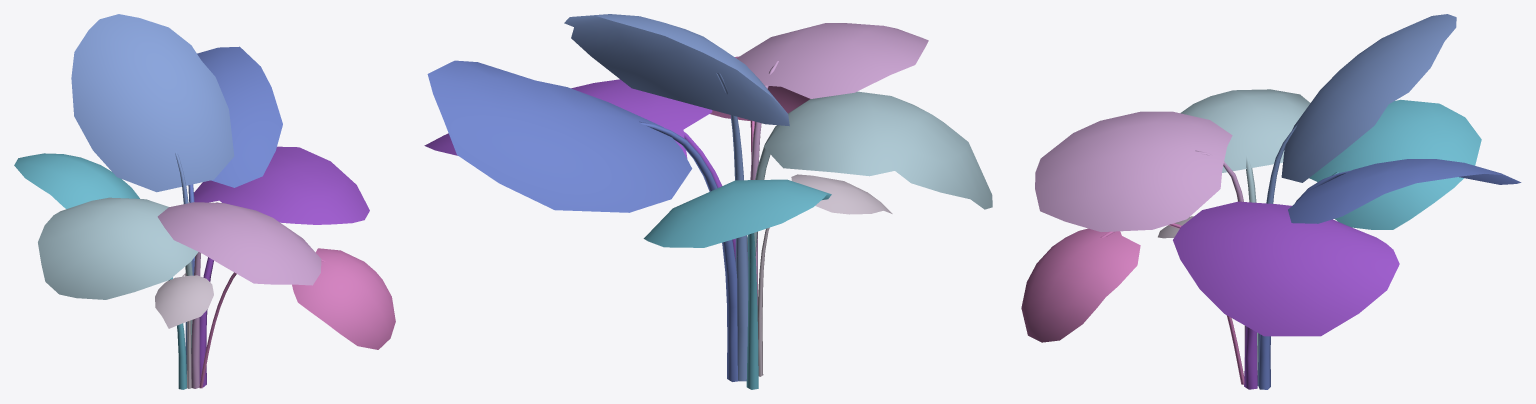
3 views of the same model, side by side, from view 1: azimuth 30°, elevation 25°; view 2: azimuth 150°, elevation 25°; view 3: azimuth 270°, elevation 25° (orthographic). The views are drawn at different scales.
Parts seen in each view (by area): view 1: SM_BS_Monstera_150cm_HD; view 2: SM_BS_Monstera_150cm_HD; view 3: SM_BS_Monstera_150cm_HD.
Boxes of the visible parts, x1,y1,x2,y2 form: SM_BS_Monstera_150cm_HD: (14, 14, 395, 389); SM_BS_Monstera_150cm_HD: (424, 14, 992, 389); SM_BS_Monstera_150cm_HD: (1021, 14, 1521, 389).
Bounding box in the file's own units: 69.62 × 65.98 × 56.3.
